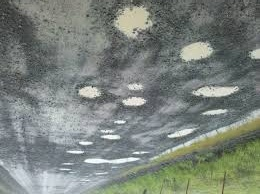pothole: (104, 2, 156, 42), (206, 122, 252, 148), (175, 40, 210, 65), (156, 140, 210, 155), (196, 82, 236, 97), (81, 158, 138, 166), (75, 83, 103, 99), (120, 96, 152, 107), (165, 129, 197, 140), (200, 108, 227, 118), (244, 48, 259, 63), (94, 127, 118, 134), (98, 133, 119, 140), (131, 148, 150, 155), (127, 84, 142, 92), (64, 149, 86, 154), (77, 138, 92, 145), (58, 161, 73, 166), (58, 167, 72, 172), (96, 171, 110, 176), (113, 119, 125, 124)
